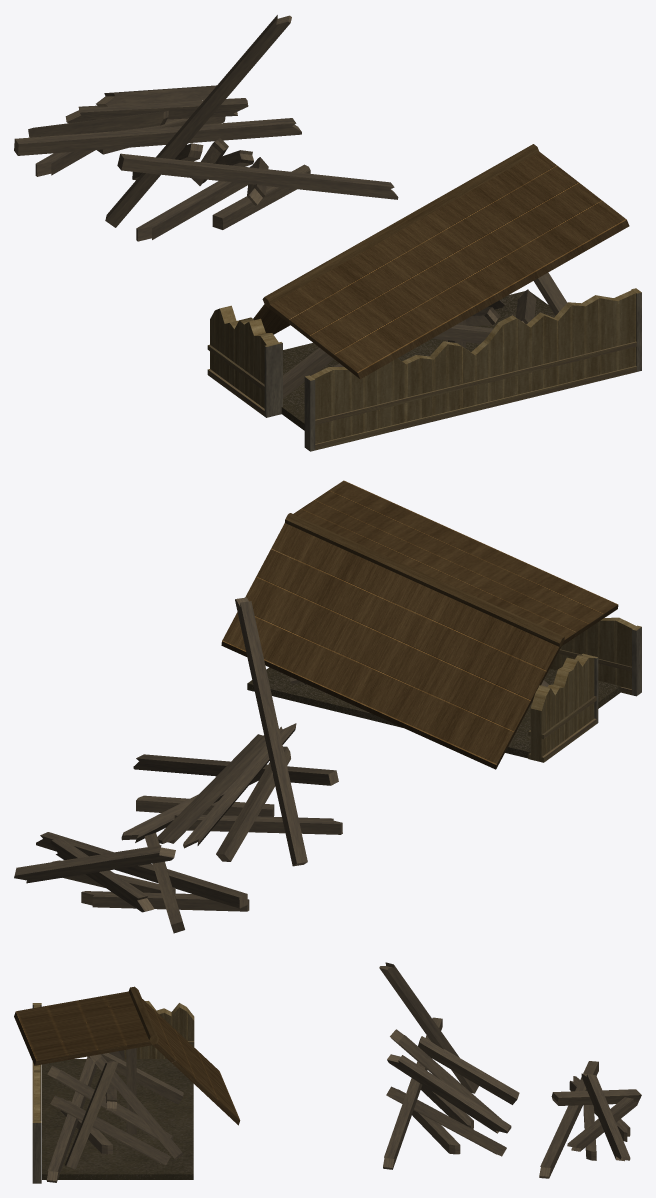
Rendered from BgMD_Akimoto_BrokenObject.fbx.
3 renders of one model, top to bottom at view 1: azimuth 30°, elevation 25°; view 2: azimuth 150°, elevation 25°; view 3: azimuth 270°, elevation 25°, orthographic. The views are drawn at different scales.
Parts seen in each view (by area): view 1: BgMD_Akimoto_Brokengroup_1_01, BgMD_Akimoto_Brokengroup_2_01, BgMD_Akimoto_Brokengroup_3_01; view 2: BgMD_Akimoto_Brokengroup_1_01, BgMD_Akimoto_Brokengroup_2_01, BgMD_Akimoto_Brokengroup_3_01; view 3: BgMD_Akimoto_Brokengroup_1_01, BgMD_Akimoto_Brokengroup_2_01, BgMD_Akimoto_Brokengroup_3_01.
Boxes of the visible parts, left/top/right/bottom form: BgMD_Akimoto_Brokengroup_1_01: left=207, top=144, right=641, bottom=451; BgMD_Akimoto_Brokengroup_2_01: left=105, top=15, right=398, bottom=241; BgMD_Akimoto_Brokengroup_3_01: left=14, top=85, right=301, bottom=176; BgMD_Akimoto_Brokengroup_1_01: left=221, top=480, right=641, bottom=769; BgMD_Akimoto_Brokengroup_2_01: left=121, top=597, right=342, bottom=866; BgMD_Akimoto_Brokengroup_3_01: left=14, top=832, right=249, bottom=933; BgMD_Akimoto_Brokengroup_1_01: left=14, top=986, right=240, bottom=1183; BgMD_Akimoto_Brokengroup_2_01: left=379, top=962, right=519, bottom=1169; BgMD_Akimoto_Brokengroup_3_01: left=539, top=1061, right=641, bottom=1178.
Bounding box in the file's own units: 497 × 315 × 1035.
